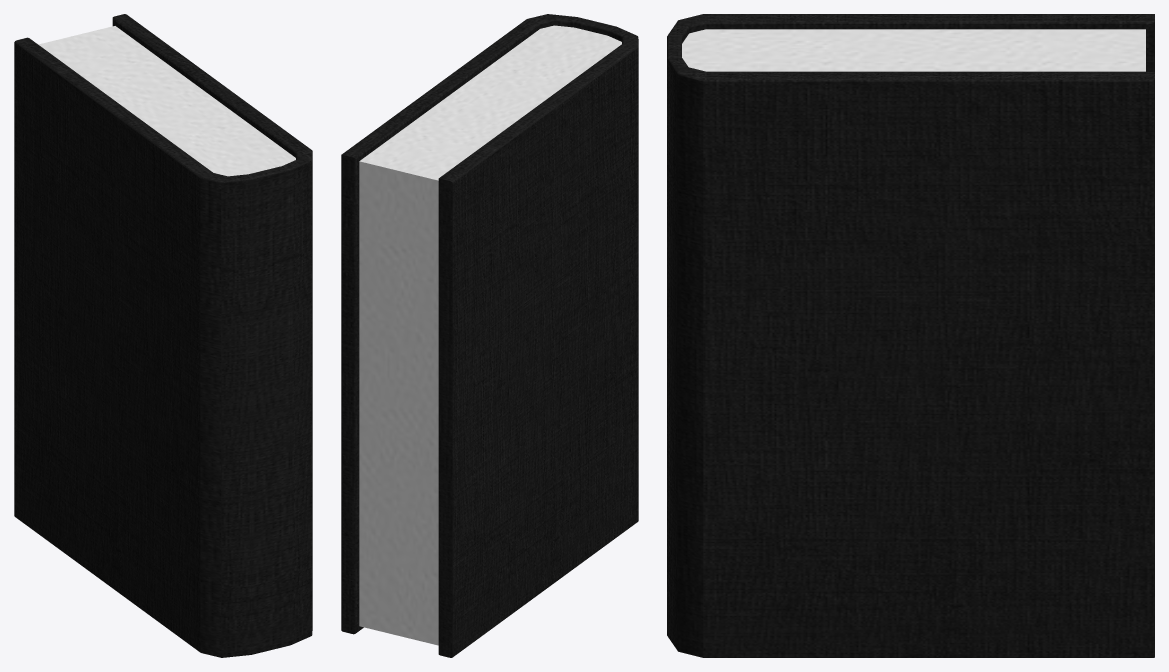
File: SM_book1.fbx
3 renders of one model, left to right at view 1: azimuth 30°, elevation 25°; view 2: azimuth 150°, elevation 25°; view 3: azimuth 270°, elevation 25°, orthographic. The views are drawn at different scales.
Parts seen in each view (by area): view 1: book5; view 2: book5; view 3: book5.
Part boxes in pixels (x1,y1,x2,y2): book5: (14, 14, 312, 657); book5: (341, 14, 638, 657); book5: (667, 14, 1154, 657).
Size of the model in its own units: 6.47 by 26.24 by 20.03.
